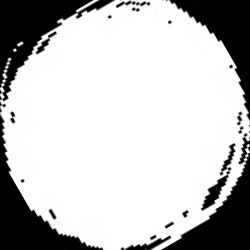spot: (2, 2, 248, 249)
